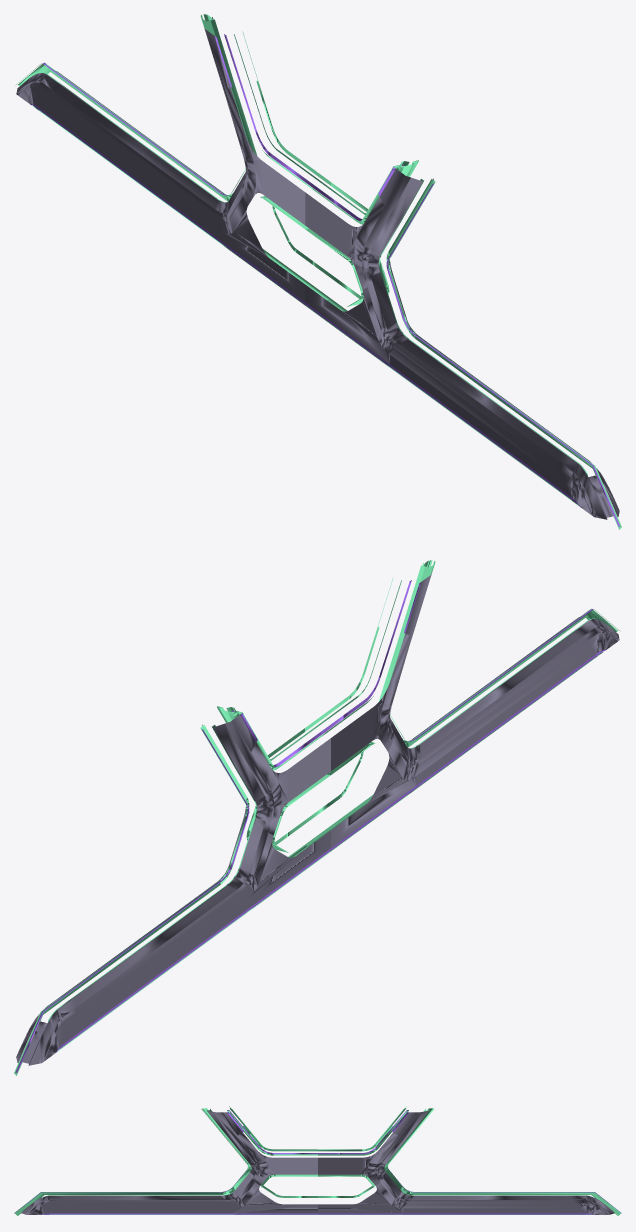
Rendered from ind_support_pillar_f_lod1.glb.
The picture shows the model from 3 angles, top to bottom: view 1: azimuth 30°, elevation 25°; view 2: azimuth 150°, elevation 25°; view 3: azimuth 270°, elevation 25°; orthographic projection. The views are drawn at different scales.
Size of the model in its own units: 1 by 7.97 by 40.7.
